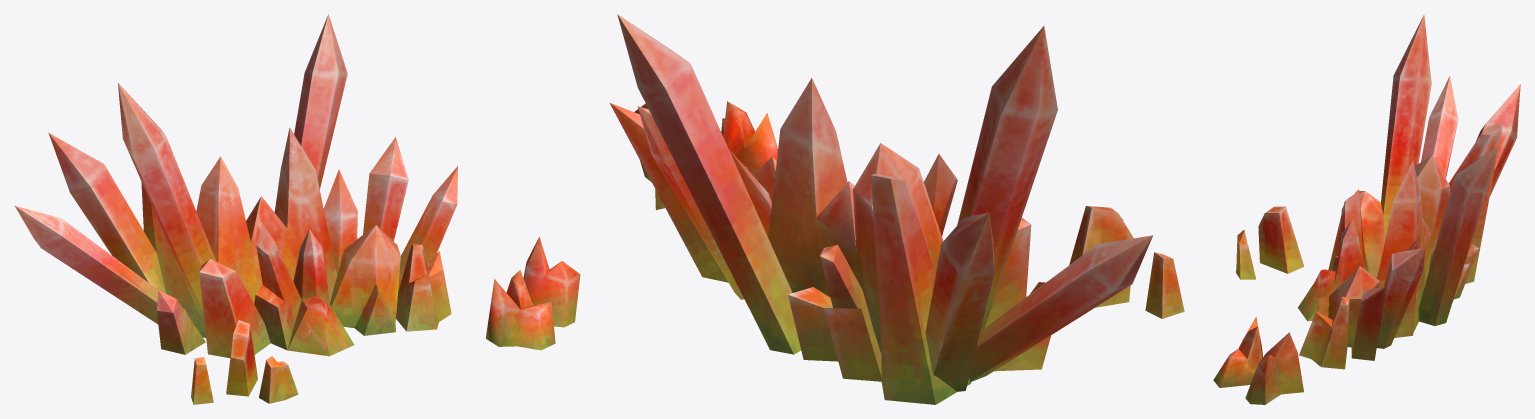
File: shuiijing.FBX
The picture shows the model from 3 angles, left to right: view 1: azimuth 30°, elevation 25°; view 2: azimuth 150°, elevation 25°; view 3: azimuth 270°, elevation 25°; orthographic projection. The views are drawn at different scales.
Visible parts, largest first — view 1: shuijing_03, shuijing_02, shuijing_01, shuijing_05, shuijing_04; view 2: shuijing_03, shuijing_02, shuijing_01, shuijing_04, shuijing_05; view 3: shuijing_03, shuijing_02, shuijing_01, shuijing_05, shuijing_04.
Part boxes in pixels (bbox=[...]): shuijing_03: bbox=[141, 14, 354, 356]; shuijing_02: bbox=[15, 83, 270, 357]; shuijing_01: bbox=[323, 137, 457, 335]; shuijing_05: bbox=[485, 237, 580, 350]; shuijing_04: bbox=[191, 320, 298, 404]; shuijing_03: bbox=[617, 14, 971, 404]; shuijing_02: bbox=[925, 25, 1152, 391]; shuijing_01: bbox=[610, 103, 776, 319]; shuijing_04: bbox=[1069, 206, 1184, 318]; shuijing_05: bbox=[634, 101, 777, 209]; shuijing_03: bbox=[1298, 123, 1502, 332]; shuijing_02: bbox=[1328, 14, 1520, 278]; shuijing_01: bbox=[1299, 235, 1425, 369]; shuijing_05: bbox=[1213, 317, 1303, 404]; shuijing_04: bbox=[1236, 206, 1304, 279].
Size of the model in its own units: 389 by 206 by 248.
